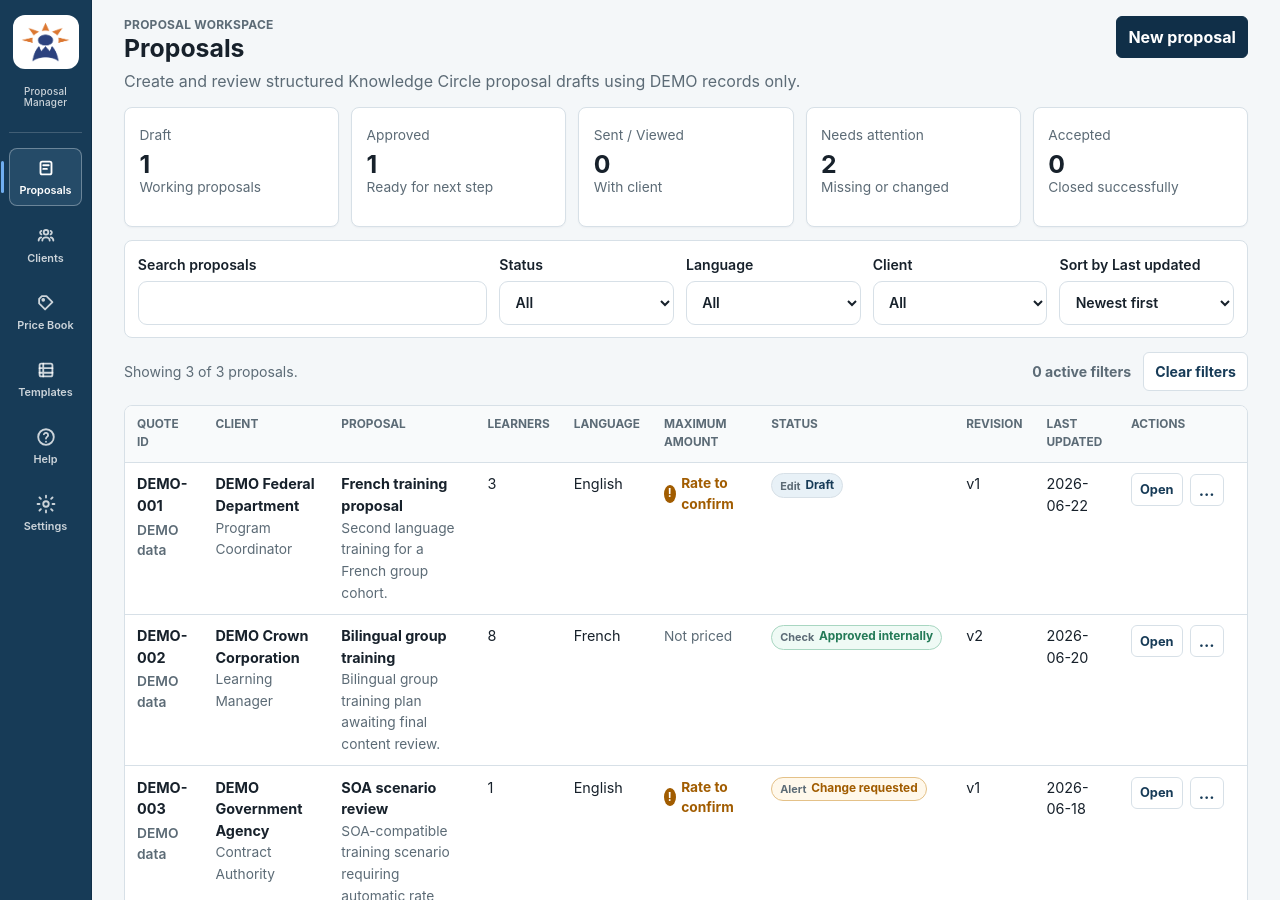
App Phase 2A prototype › moves the proposal language choice to the Proposal step
Click the button "New proposal" at (1182, 37), box [1116,16,1248,58]
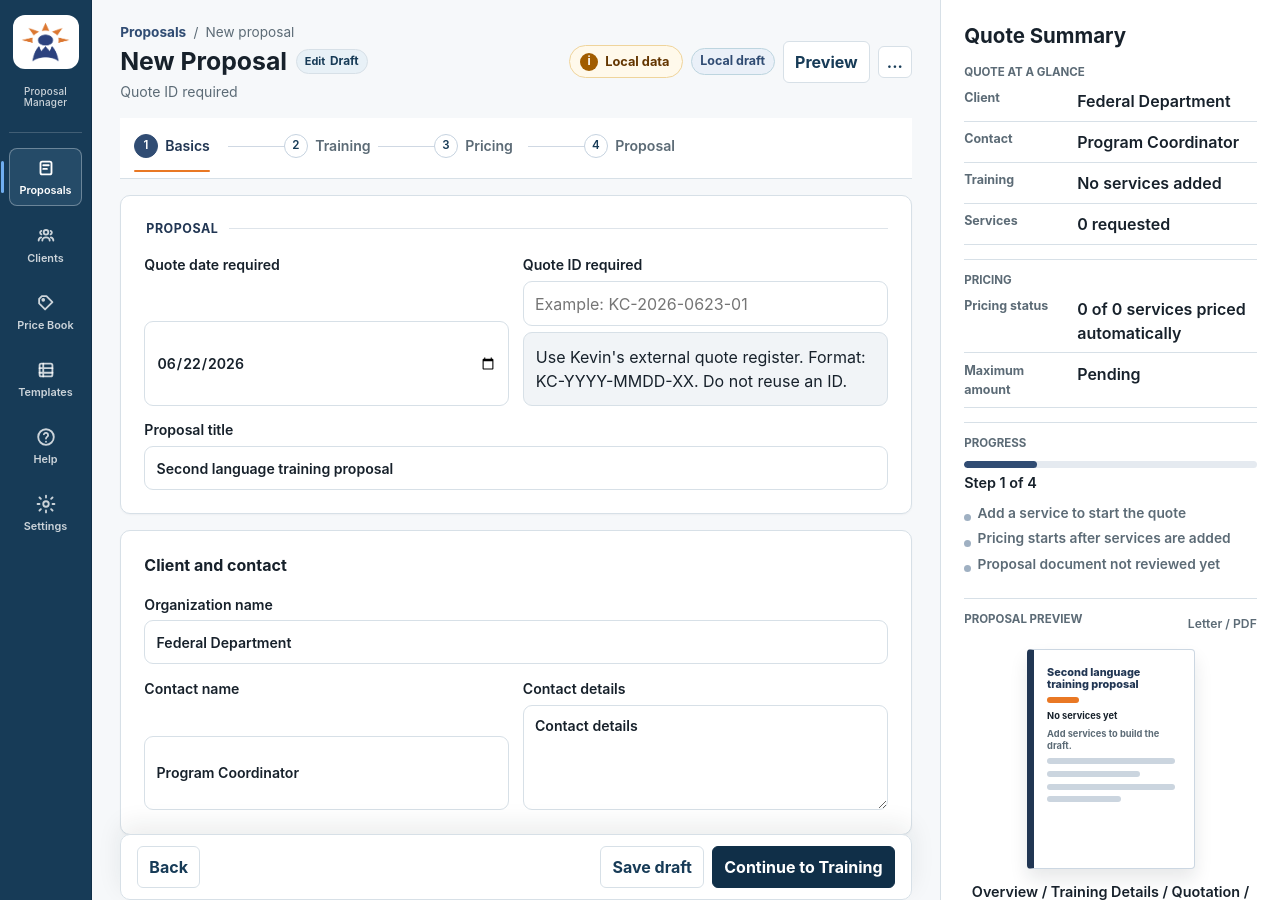
Click the button "4 Proposal" at (630, 146), box [570,126,689,166]
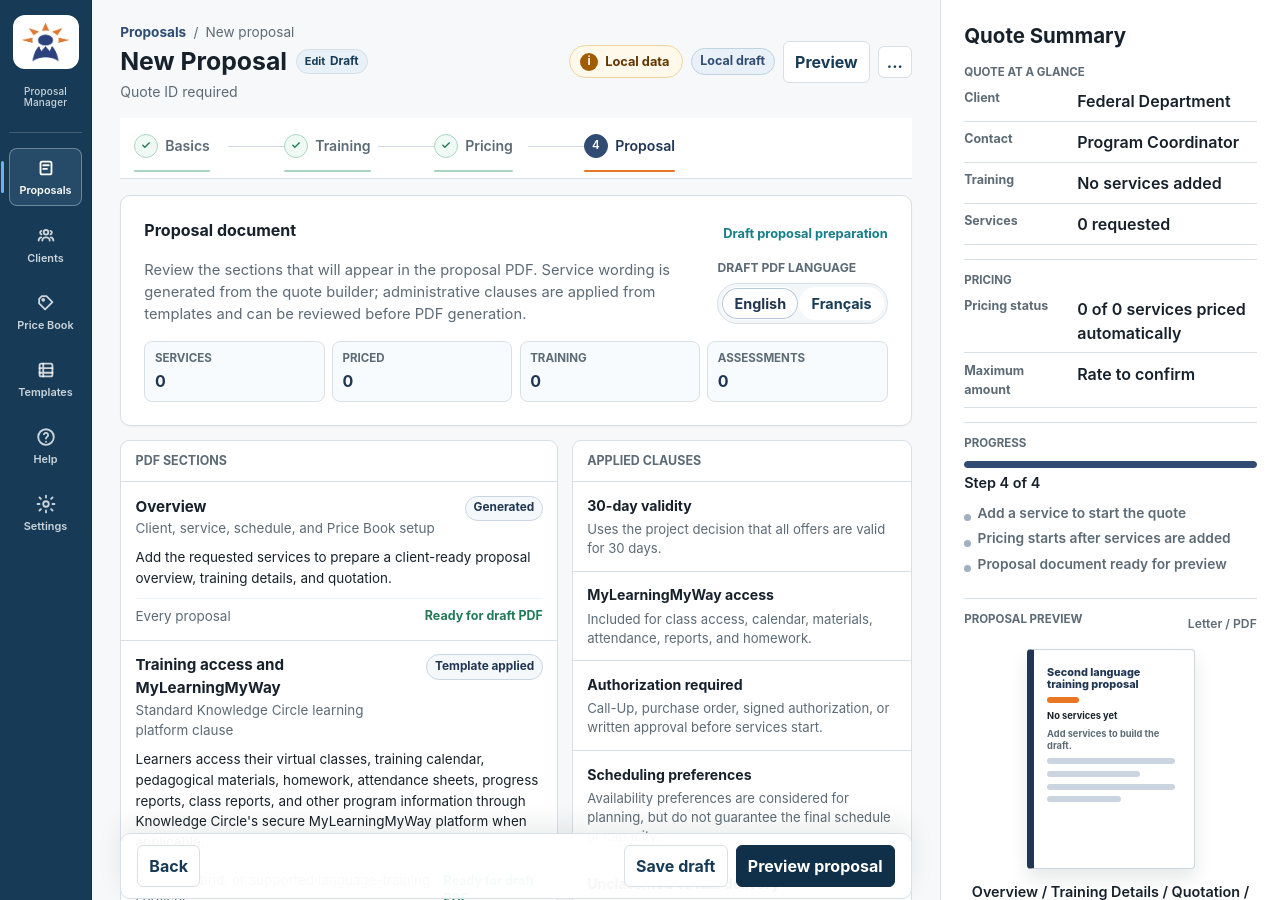
Expected: the text "Draft PDF language" is shown, [718,259,856,277]
Click the button "Français" at (842, 303), box [799,286,884,320]
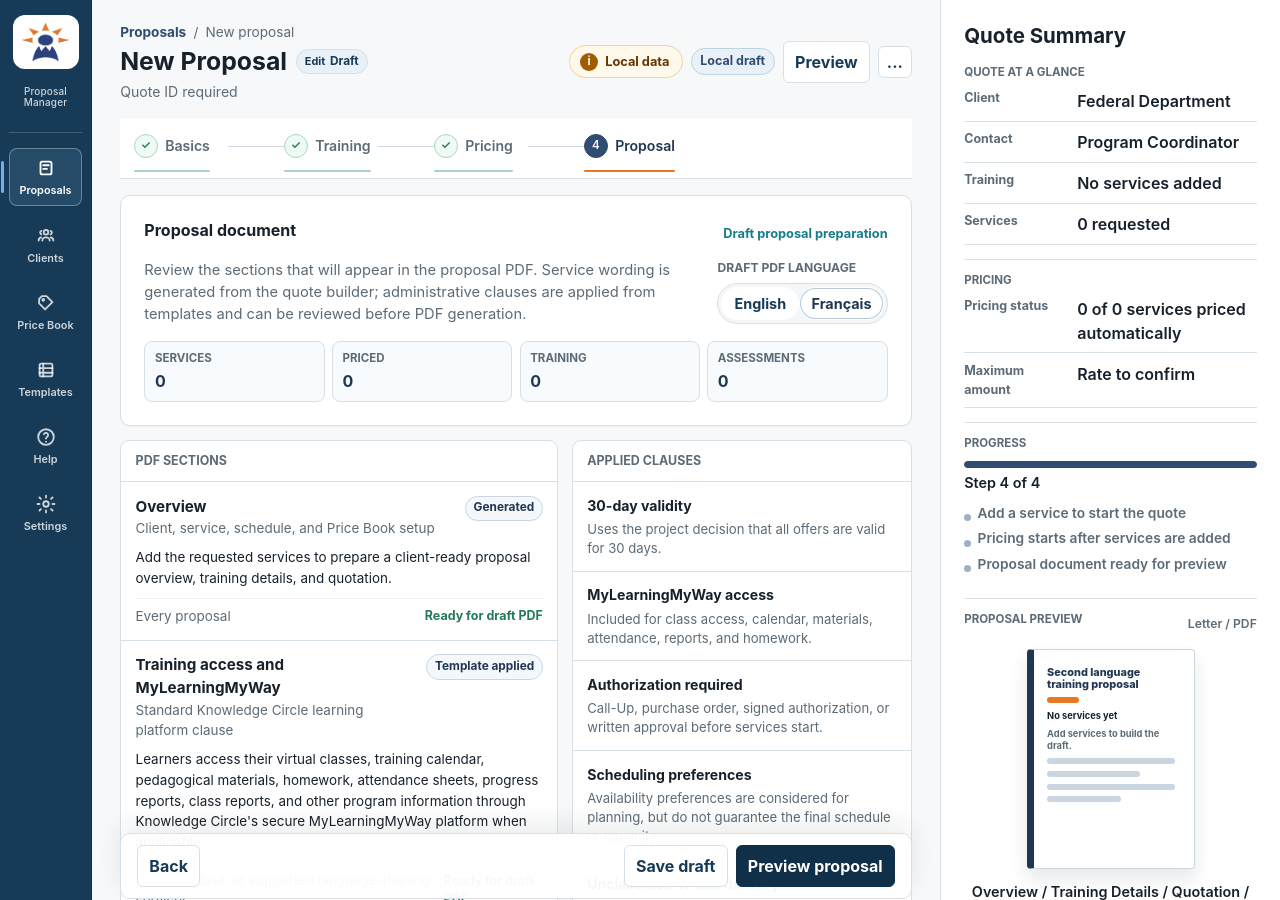
Expected: the button "Français" is pressed, [799,286,884,320]
Click the button "Preview" at (826, 62), box [783,41,870,83]
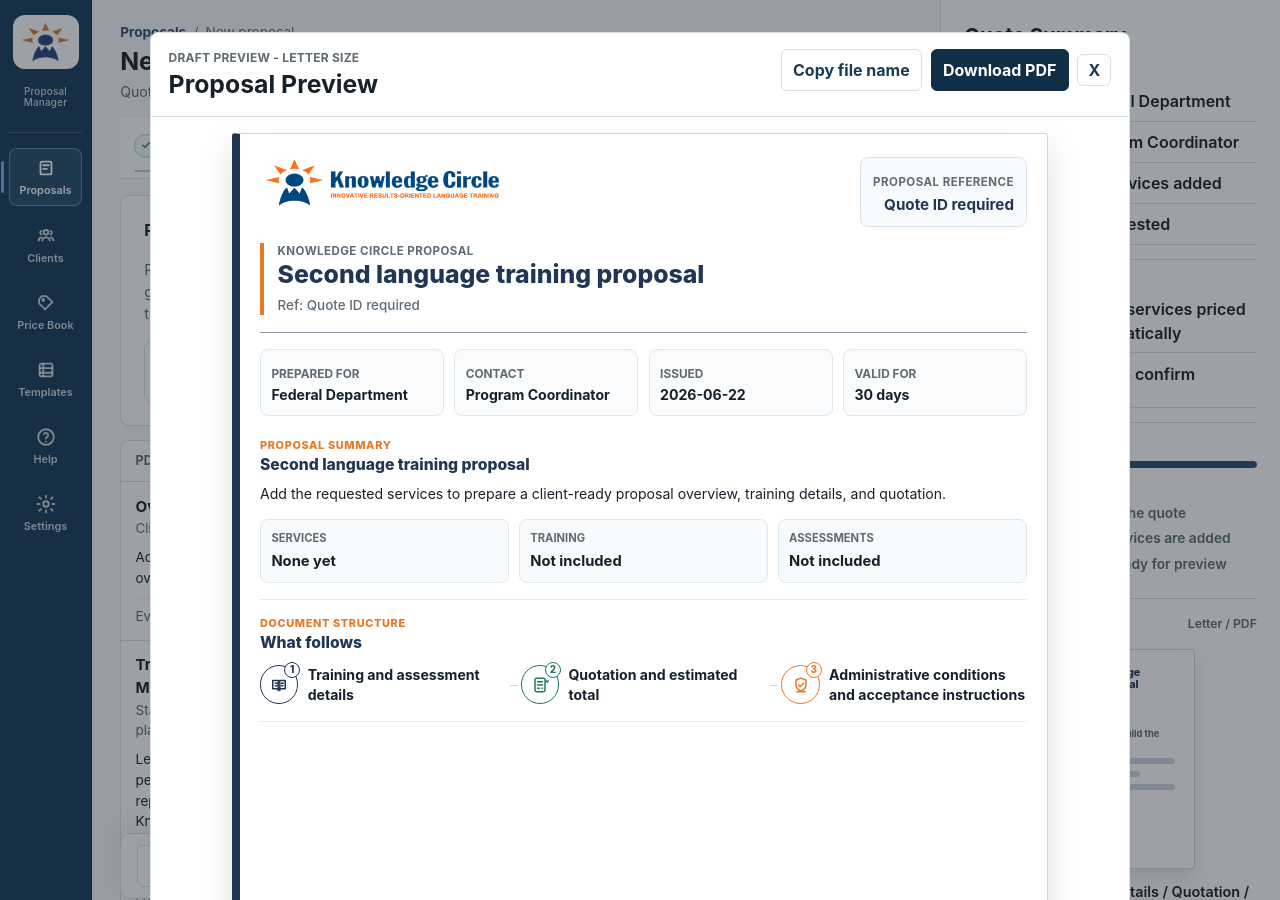
Expected: the text "Valid for" is shown, [854,367,916,381]
Expected: the text "30 days" is shown, [854,386,910,403]
